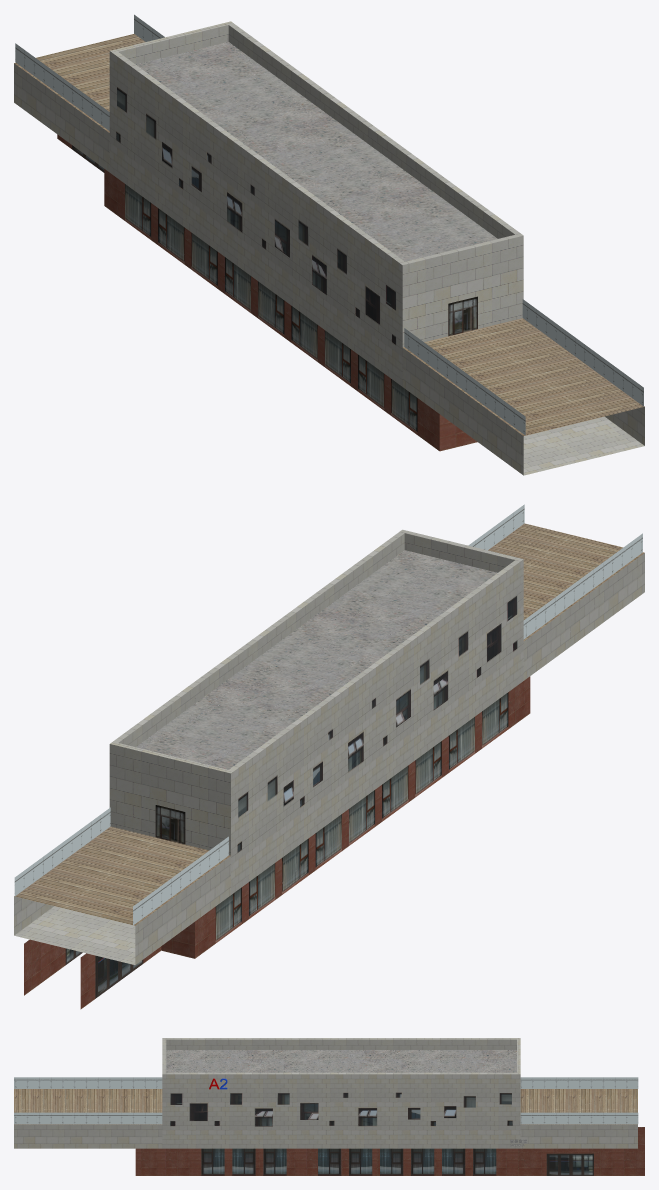
The model's file is A2_XueYuanShiTang.FBX.
3 renders of one model, top to bottom at view 1: azimuth 30°, elevation 25°; view 2: azimuth 150°, elevation 25°; view 3: azimuth 270°, elevation 25°, orthographic. The views are drawn at different scales.
Visible parts, largest first — view 1: XueYuanShiTang; view 2: XueYuanShiTang; view 3: XueYuanShiTang.
Boxes of the visible parts, bbox=[...] form: XueYuanShiTang: bbox=[14, 14, 644, 475]; XueYuanShiTang: bbox=[14, 504, 644, 1009]; XueYuanShiTang: bbox=[14, 1038, 644, 1175].
Size of the model in its own units: 741 by 1000 by 5370.
